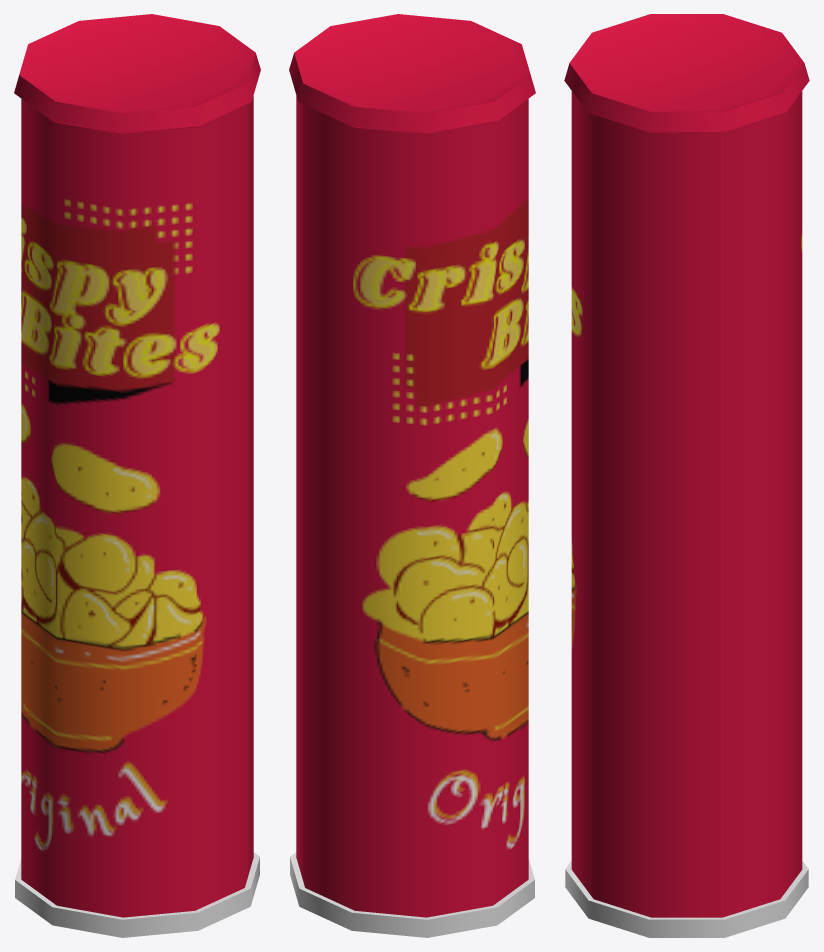
Rendered from can_chips_classic.fbx.
3 renders of one model, left to right at view 1: azimuth 30°, elevation 25°; view 2: azimuth 150°, elevation 25°; view 3: azimuth 270°, elevation 25°, orthographic.
Parts seen in each view (by area): view 1: can_chips_classic; view 2: can_chips_classic; view 3: can_chips_classic.
Part boxes in pixels (x1=…): can_chips_classic: x1=14, y1=14, x2=260, y2=937; can_chips_classic: x1=289, y1=14, x2=535, y2=937; can_chips_classic: x1=564, y1=14, x2=809, y2=937.
Size of the model in its own units: 52.19 by 196 by 52.92.
